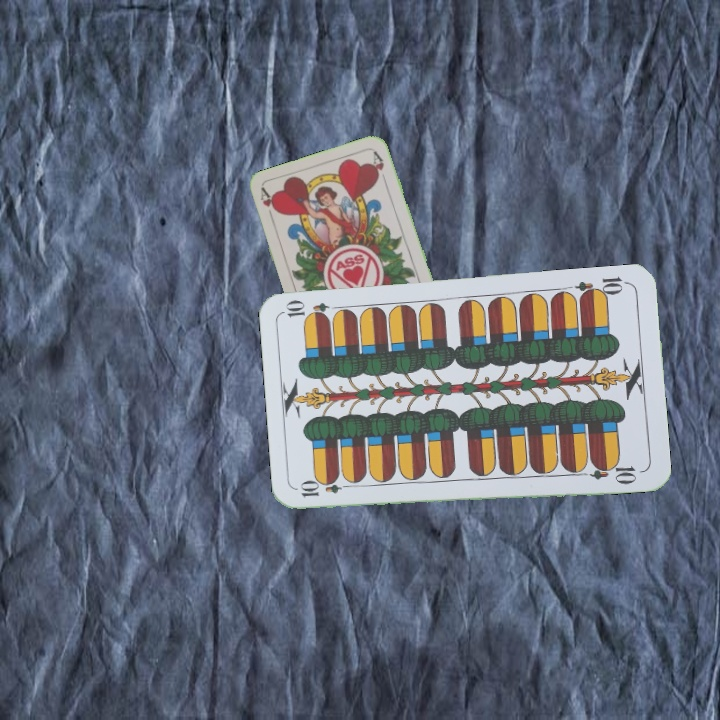E10: (572, 273, 631, 302), (296, 478, 355, 500)
HA: (256, 185, 280, 225)
